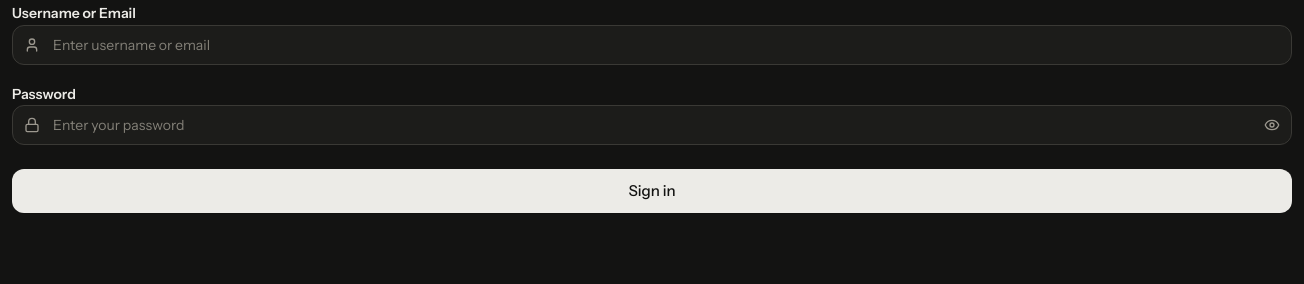
LoginForm › flags empty fields
Click the button "Sign in" at (652, 191), box [12,169,1292,213]
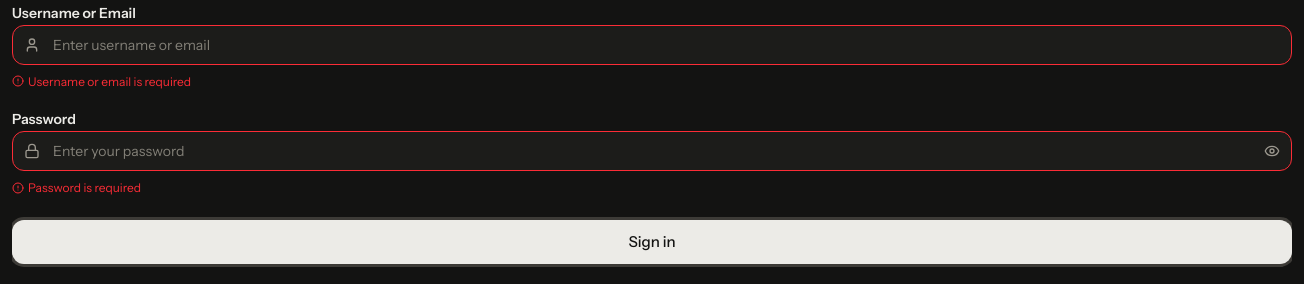
Check: the text "Username or email is required" is shown, box [12,74,191,89]
Check: the text "Password is required" is shown, box [12,180,141,195]
